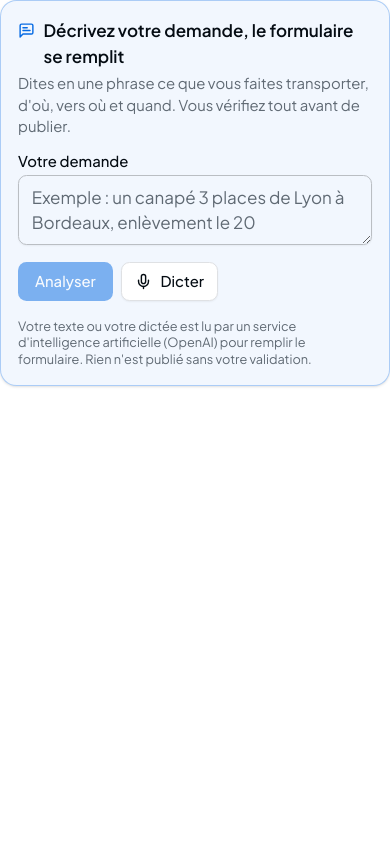
Test: RequestAssistant › names a far country beside its town, with no postal code to show
Replace the text in the text box with "un piano de Nantes à Dubaï" at (195, 210), box left=18, top=175, right=372, bottom=245
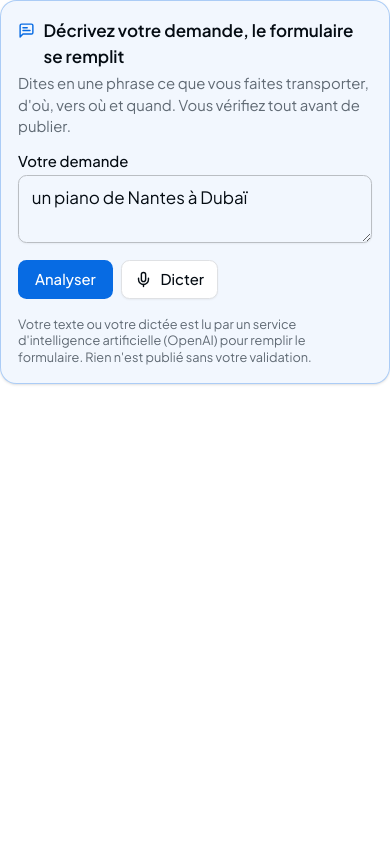
Click the button "Analyser" at (65, 279), box left=18, top=260, right=113, bottom=299
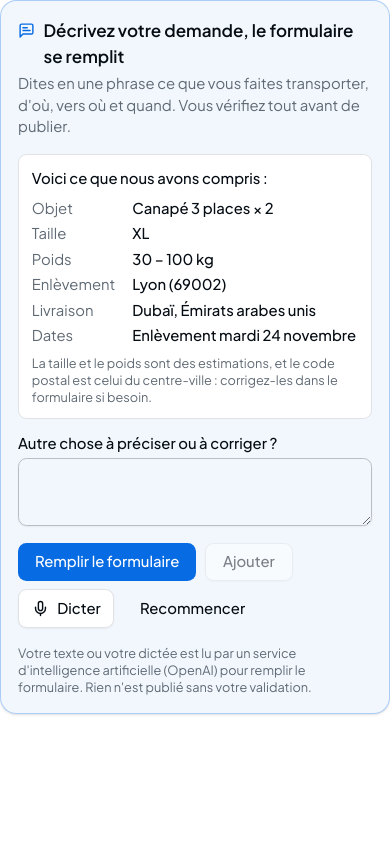
Now the text "Dubaï, Émirats arabes unis" is shown, box left=132, top=300, right=316, bottom=318
